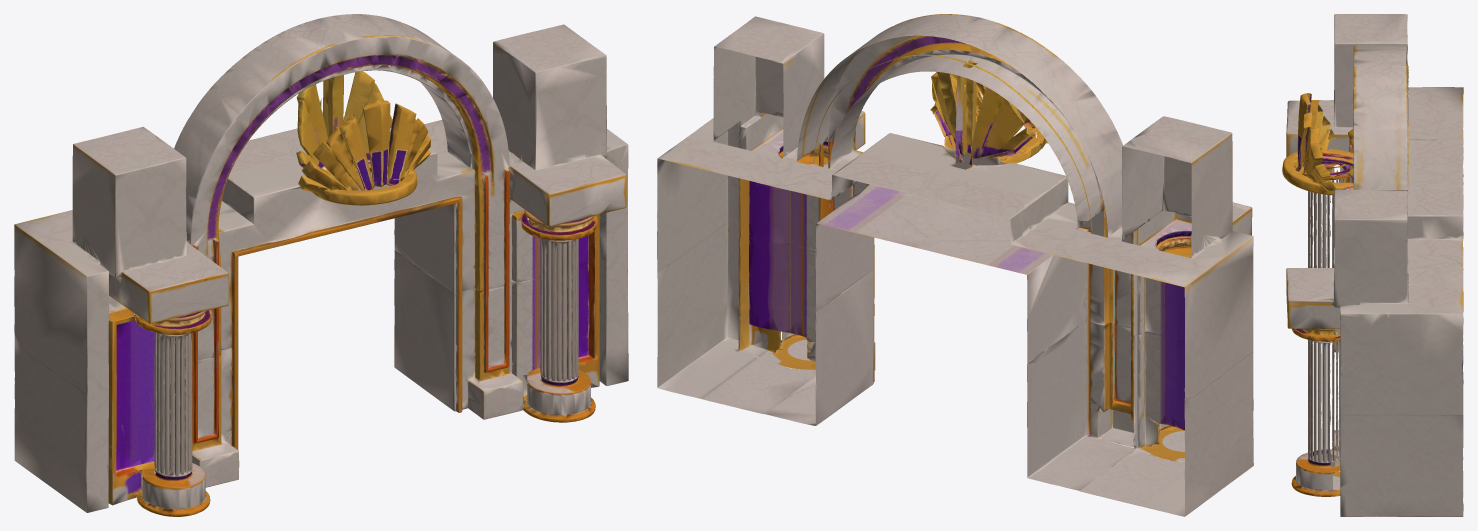
The model's file is deco_gate.glb.
The picture shows the model from 3 angles, left to right: view 1: azimuth 30°, elevation 25°; view 2: azimuth 150°, elevation 25°; view 3: azimuth 270°, elevation 25°; orthographic projection. The views are drawn at different scales.
Bounding box in the file's own units: 1.9 × 1.34 × 0.6421.
1 material, 1 textured.
